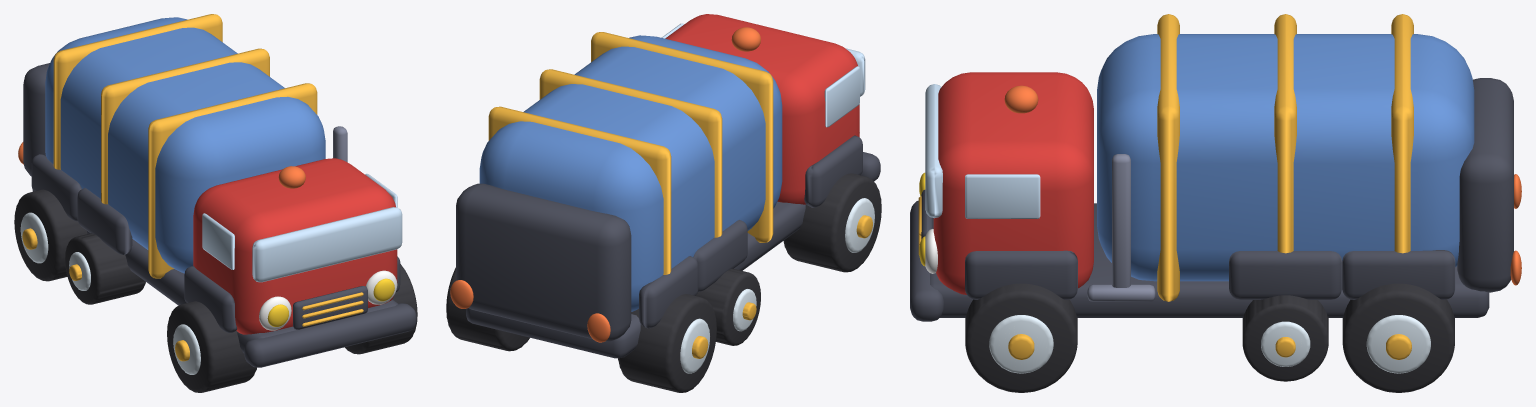
The model's file is toy-dumpster.glb.
3 views of the same model, side by side, from view 1: azimuth 30°, elevation 25°; view 2: azimuth 150°, elevation 25°; view 3: azimuth 270°, elevation 25° (orthographic). The views are drawn at different scales.
Parts seen in each view (by area): view 1: body, wheel-front-right, wheel-back-right, grill, wheel-front-left; view 2: body, wheel-back-right, wheel-front-right, wheel-back-left; view 3: body, wheel-back-left, wheel-front-left.
Part boxes in pixels (x1=…): body: x1=18, y1=14, x2=416, y2=367; wheel-front-right: x1=167, y1=301, x2=256, y2=392; wheel-back-right: x1=14, y1=189, x2=87, y2=281; grill: x1=293, y1=286, x2=367, y2=329; wheel-front-left: x1=345, y1=264, x2=417, y2=354; body: x1=450, y1=14, x2=880, y2=358; wheel-back-right: x1=618, y1=294, x2=716, y2=392; wheel-front-right: x1=783, y1=173, x2=881, y2=272; wheel-back-left: x1=446, y1=267, x2=529, y2=351; body: x1=910, y1=14, x2=1521, y2=381; wheel-back-left: x1=1342, y1=283, x2=1454, y2=392; wheel-front-left: x1=965, y1=283, x2=1077, y2=392.
Bounding box in the file's own units: 1.71 × 1.59 × 3.24.
1 material, 1 textured.
